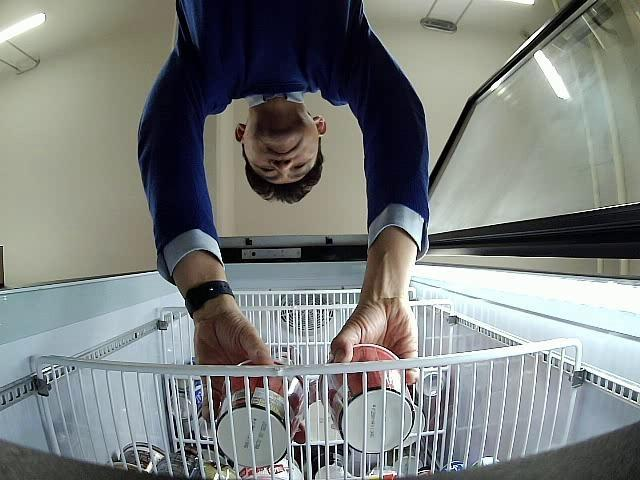02_shinRamen_S: (320, 346, 416, 454), (214, 360, 306, 469)
